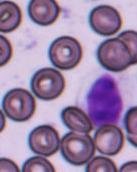L: (78, 71, 124, 128)
